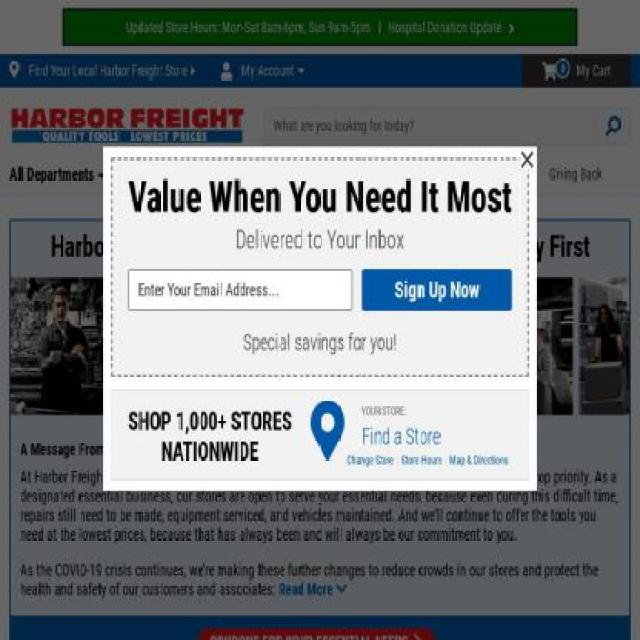button: (9, 107, 245, 145), (0, 54, 209, 88), (362, 269, 512, 311), (9, 153, 109, 195), (208, 55, 317, 87), (522, 55, 630, 87), (595, 108, 631, 144)
field: (264, 109, 596, 142), (128, 269, 352, 311)
